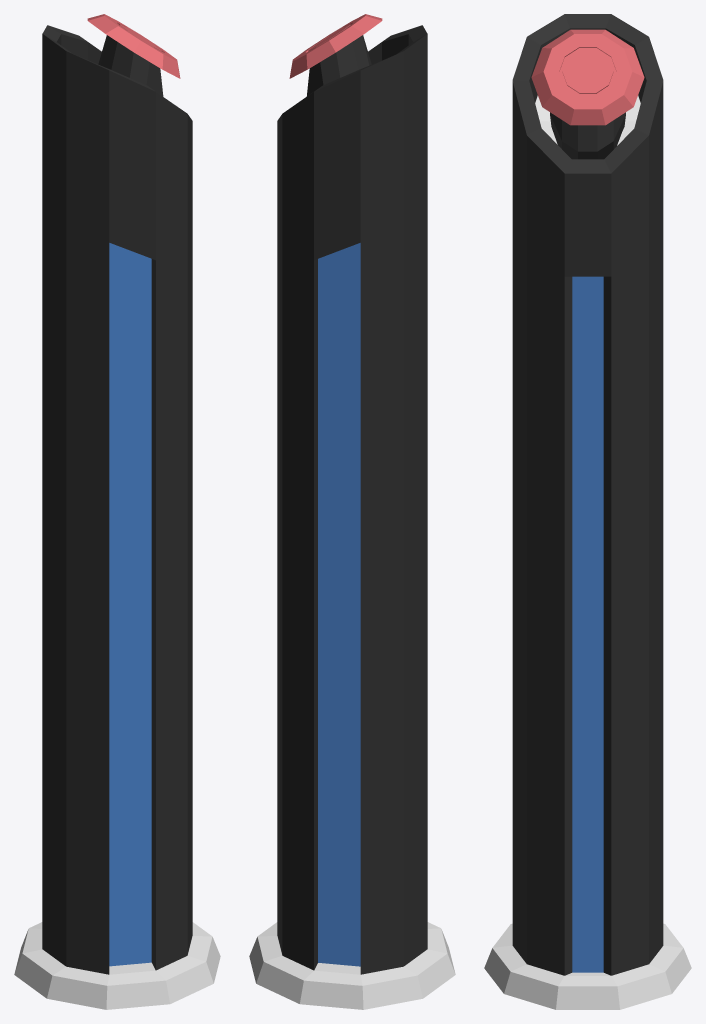
The model's file is TallButton_empty.fbx.
The picture shows the model from 3 angles, left to right: view 1: azimuth 30°, elevation 25°; view 2: azimuth 150°, elevation 25°; view 3: azimuth 270°, elevation 25°; orthographic projection.
Parts seen in each view (by area): view 1: press_chassi, Push_button; view 2: press_chassi, Push_button; view 3: press_chassi, Push_button.
Part boxes in pixels (x1,y1,x2,y2): press_chassi: (14,25,220,1009); Push_button: (87,14,180,96); press_chassi: (249,25,455,1009); Push_button: (289,14,382,96); press_chassi: (484,14,691,1009); Push_button: (531,29,644,159).
Size of the model in its own units: 1.47 by 7.66 by 1.55.
